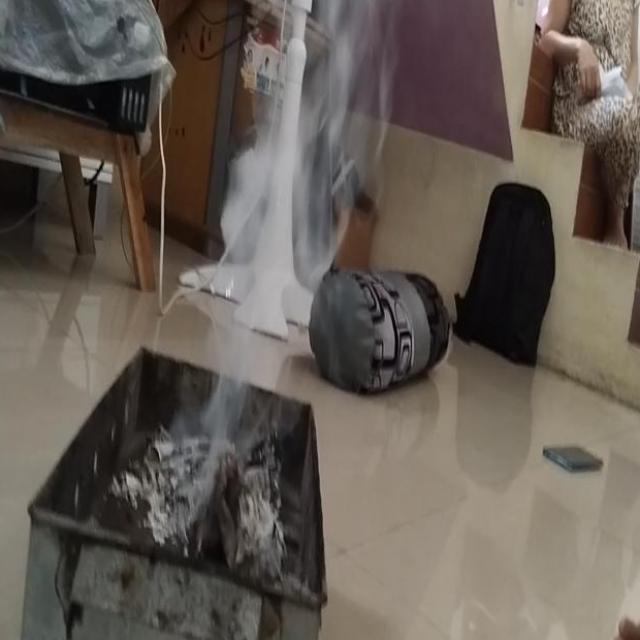fire: (224, 0, 362, 283), (197, 283, 291, 488)
